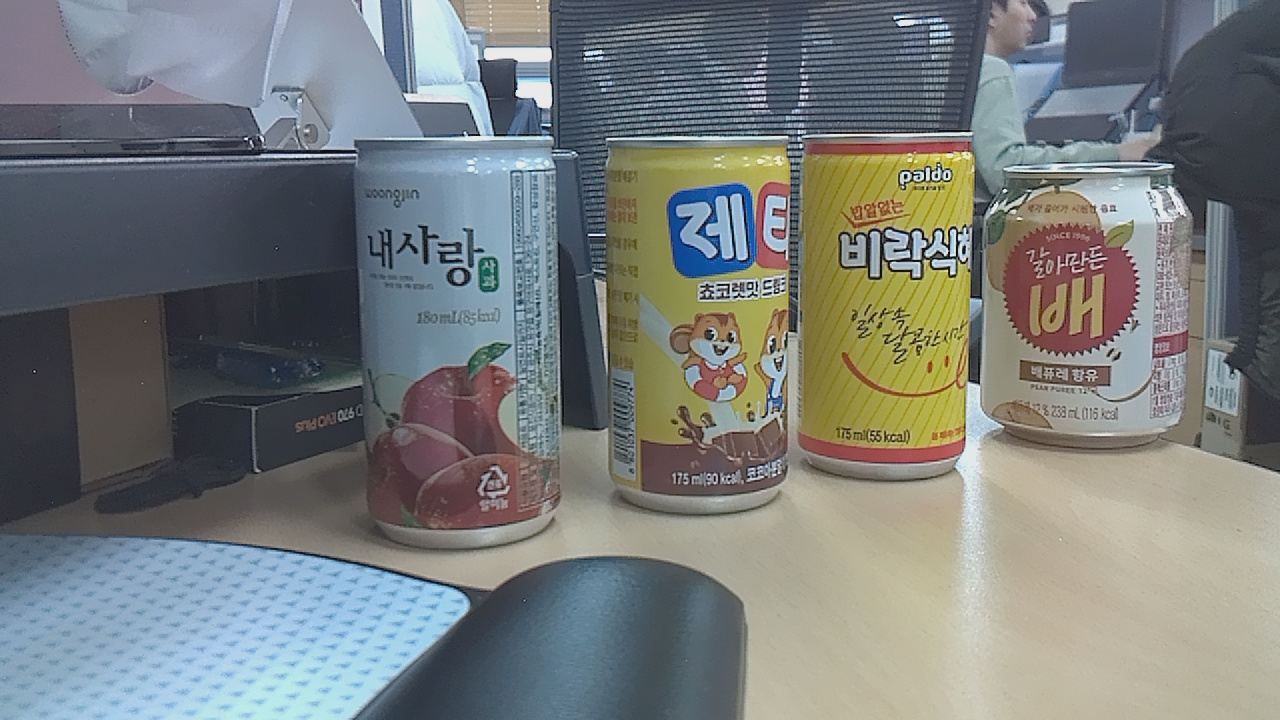IdH (pear juice): (991, 139, 1194, 464)
jetty: (610, 139, 796, 513)
mylove apple: (347, 132, 587, 565)
paldo shikhye: (809, 153, 982, 483)
